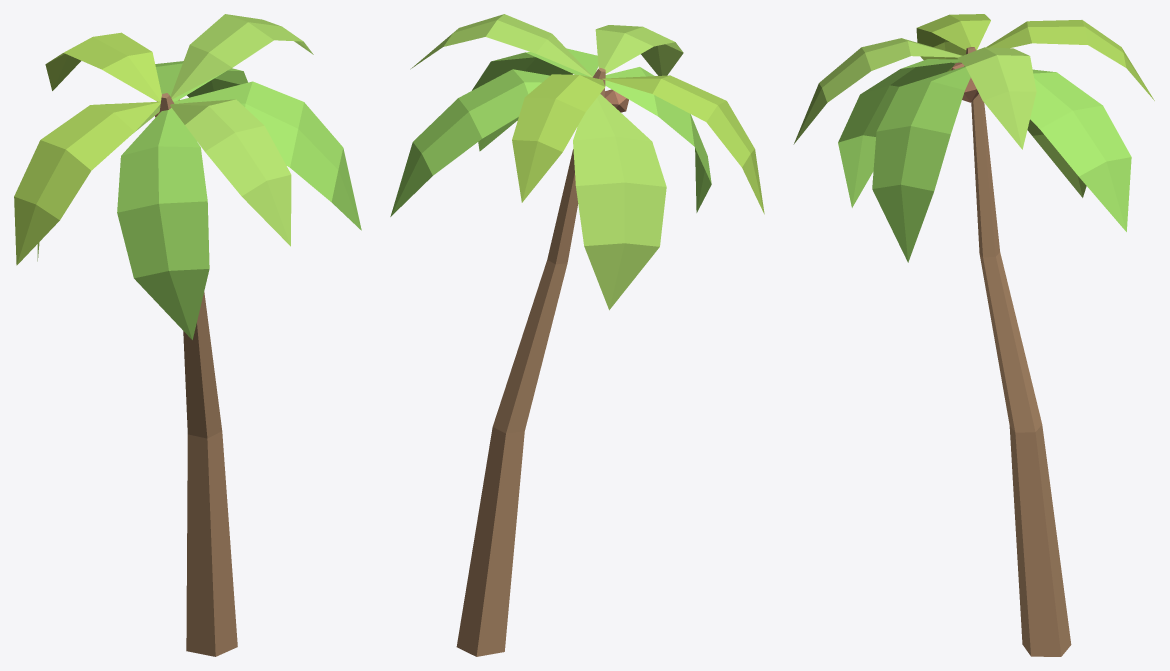
The model's file is Palm_Tree_Coconut_OneSided_m_06_LOD.fbx.
3 views of the same model, side by side, from view 1: azimuth 30°, elevation 25°; view 2: azimuth 150°, elevation 25°; view 3: azimuth 270°, elevation 25° (orthographic). The views are drawn at different scales.
Visible parts, largest first — view 1: Palm_Tree_Coconut_OneSided_m_06_LOD0; view 2: Palm_Tree_Coconut_OneSided_m_06_LOD0; view 3: Palm_Tree_Coconut_OneSided_m_06_LOD0.
Boxes of the visible parts, box(x1,y1,x2,y2) form: Palm_Tree_Coconut_OneSided_m_06_LOD0: box(14, 14, 361, 656); Palm_Tree_Coconut_OneSided_m_06_LOD0: box(390, 14, 764, 656); Palm_Tree_Coconut_OneSided_m_06_LOD0: box(793, 14, 1154, 656).
Size of what is drawn, in the model's own units: 290 by 526 by 289.
